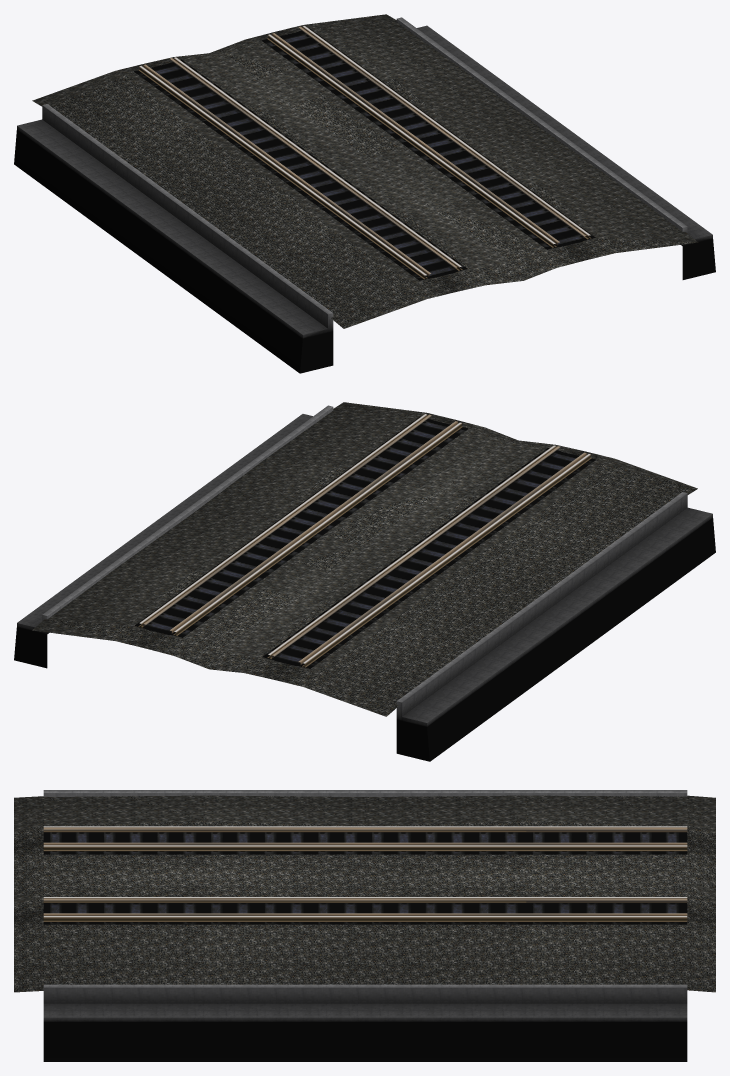
Rendered from TOB_2RAIL_50.glb.
3 views of the same model, one above another, from view 1: azimuth 30°, elevation 25°; view 2: azimuth 150°, elevation 25°; view 3: azimuth 270°, elevation 25° (orthographic). The views are drawn at different scales.
Visible parts, largest first — view 1: LeftWall1, R000_RG_R1, R000_RG_L1; view 2: LeftWall1, R000_RG_R1, R000_RG_L1; view 3: LeftWall1, R000_RG_L1, R000_RG_R1.
Boxes of the visible parts, x1,y1,x2,y2 form: LeftWall1: (14, 14, 715, 373); R000_RG_R1: (143, 33, 559, 276); R000_RG_L1: (169, 26, 586, 268); LeftWall1: (14, 402, 715, 761); R000_RG_R1: (169, 421, 586, 664); R000_RG_L1: (143, 414, 560, 658); LeftWall1: (14, 790, 715, 1061); R000_RG_L1: (43, 842, 687, 915); R000_RG_R1: (43, 828, 687, 902).
Bounding box in the file's own units: 42 × 6.55 × 54.53.
7 materials, 6 textured.
